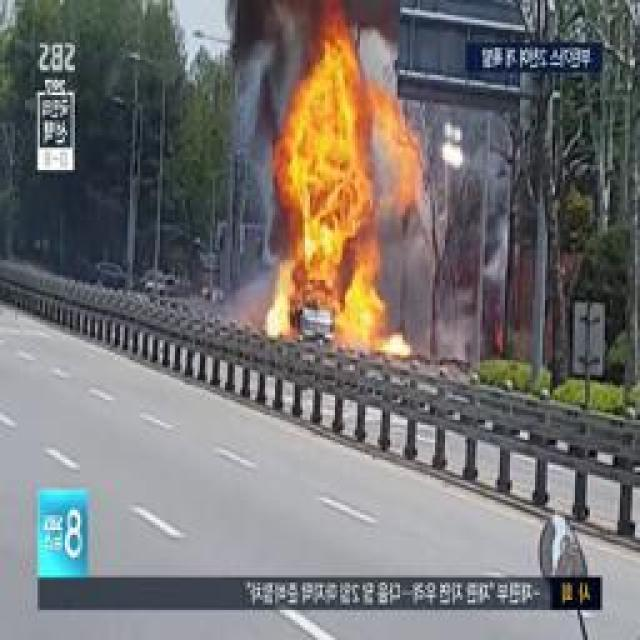Fire: (280, 72, 355, 305), (343, 317, 391, 347)
